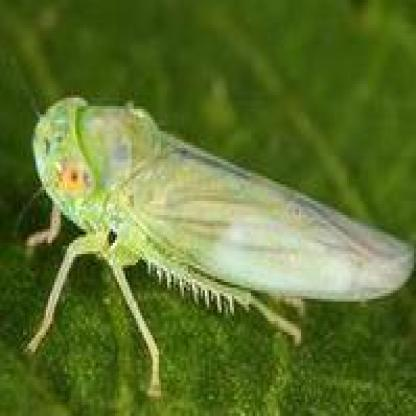Green-Leafhopper: (21, 83, 416, 413)
